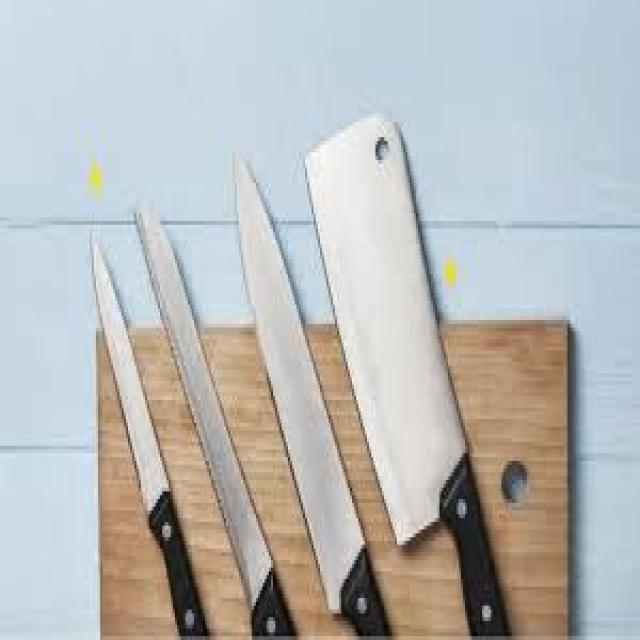Knife: (307, 110, 510, 632), (235, 152, 390, 632), (134, 202, 294, 632), (92, 236, 207, 636)
